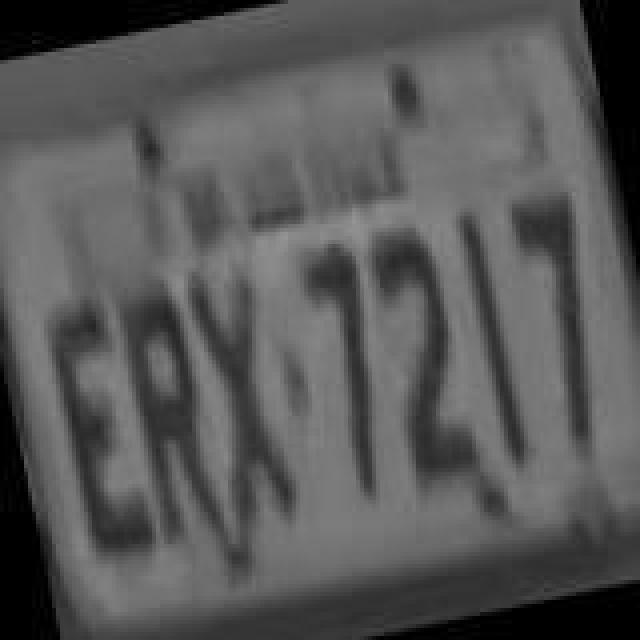1: (454, 212, 530, 476)
2: (362, 220, 486, 492)
7: (294, 240, 410, 512), (506, 188, 622, 452)
E: (42, 296, 166, 568)
R: (108, 278, 228, 554)
X: (182, 264, 306, 536)
